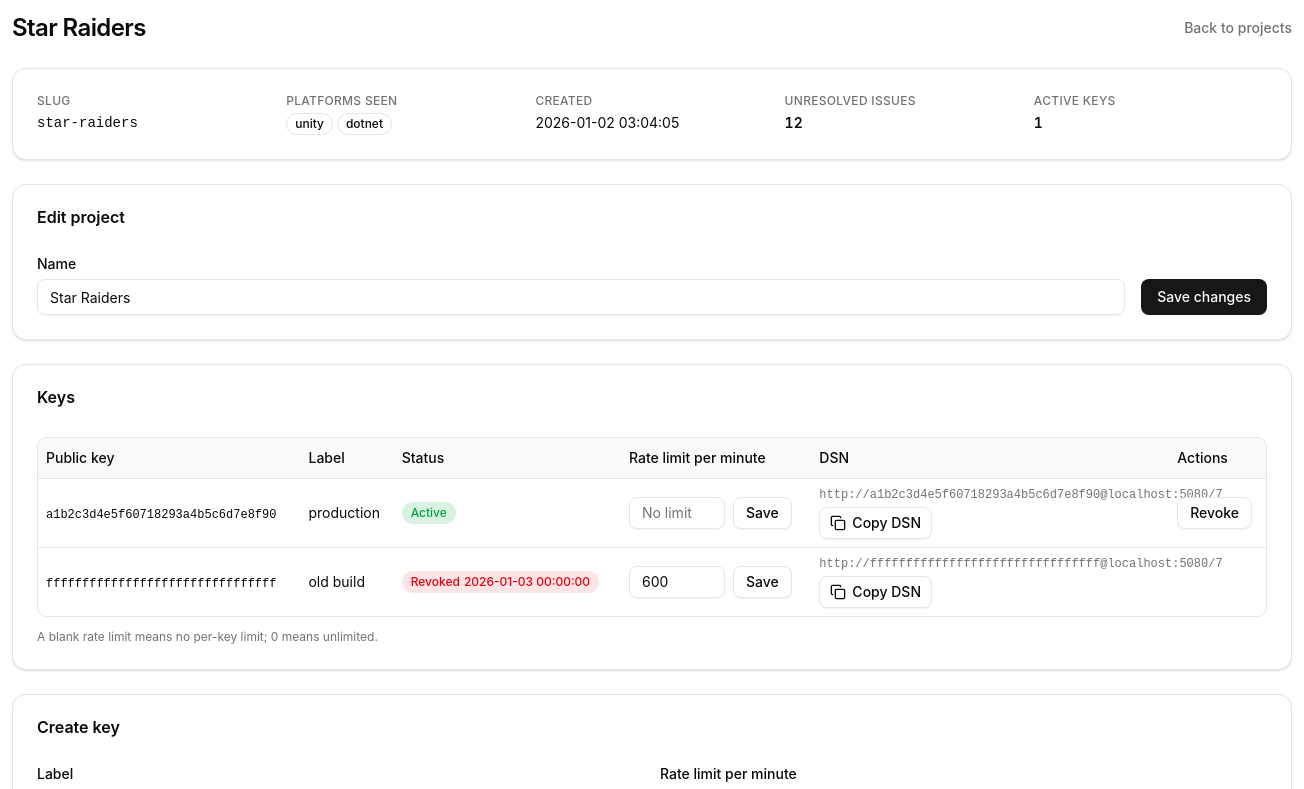
Test: ProjectDetailPage › copies a key DSN from the table
This screenshot has width=1304, height=789.
Click the button "Copy DSN" in the row of "production" at (876, 522), box [819, 506, 932, 538]
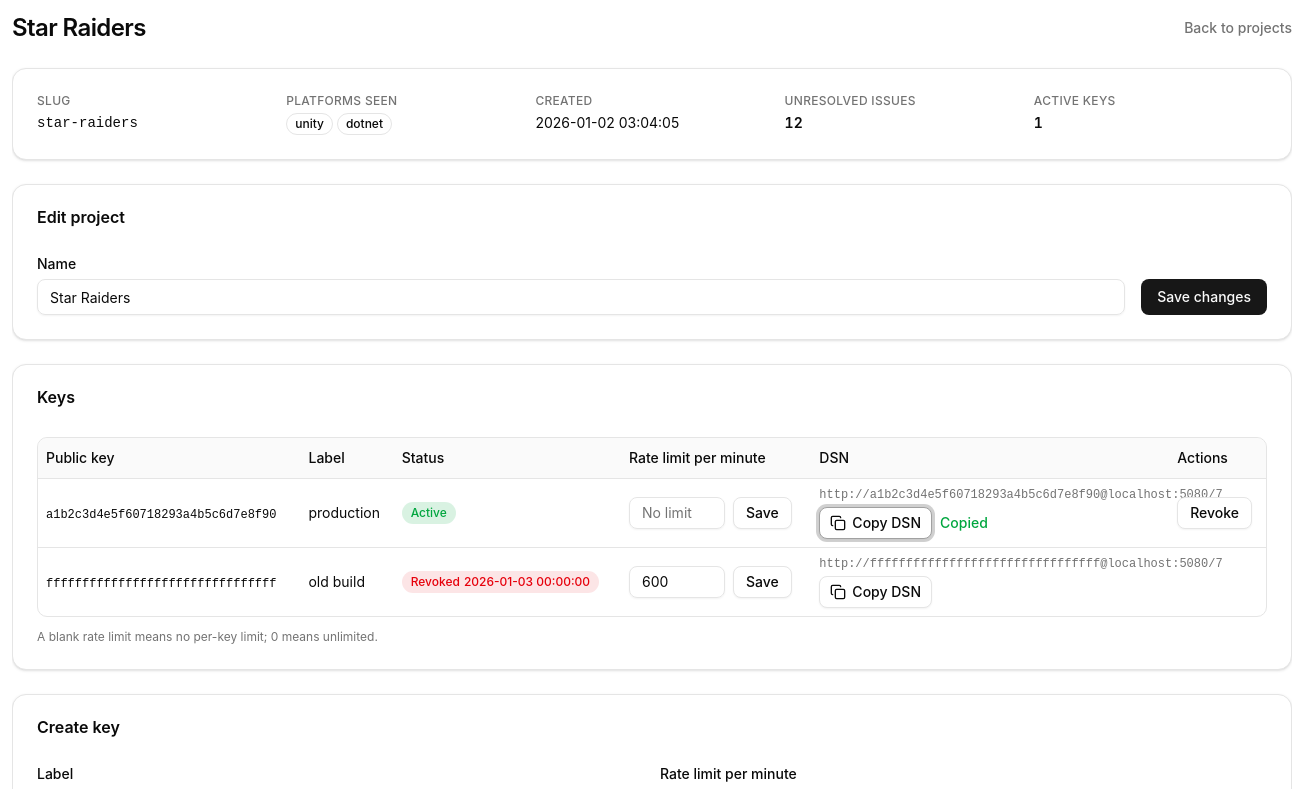
Result: the message reads "Copied" at [940, 514, 988, 530]
